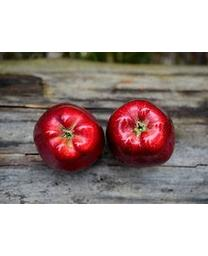apple: (32, 102, 104, 172), (105, 102, 176, 168)
